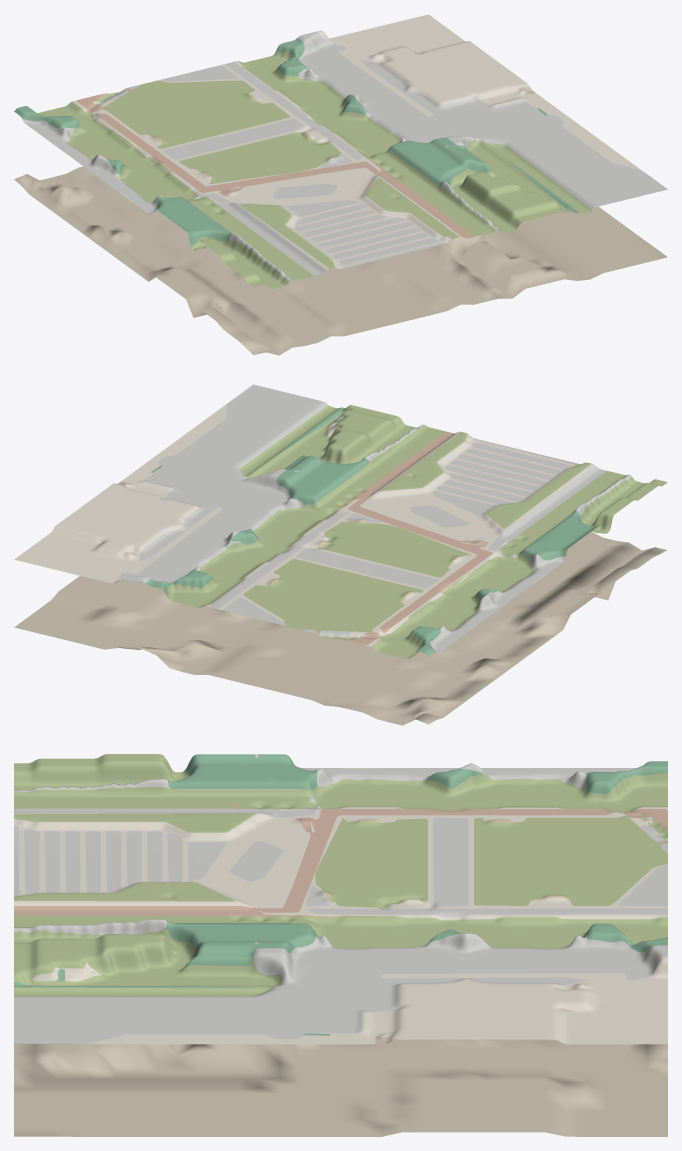
The picture shows the model from 3 angles, top to bottom: view 1: azimuth 30°, elevation 25°; view 2: azimuth 150°, elevation 25°; view 3: azimuth 270°, elevation 25°; orthographic projection. The views are drawn at different scales.
Parts seen in each view (by area): view 1: s_-1_0__soil, s_-1_0__grass, s_-1_0__stone_paving, s_-1_0__paving, s_-1_0__green_court, s_-1_0__brick_paving; view 2: s_-1_0__soil, s_-1_0__grass, s_-1_0__stone_paving, s_-1_0__paving, s_-1_0__green_court, s_-1_0__brick_paving; view 3: s_-1_0__grass, s_-1_0__soil, s_-1_0__stone_paving, s_-1_0__paving, s_-1_0__green_court, s_-1_0__brick_paving.
Boxes of the visible parts, <box> form: s_-1_0__soil: <box>14,51,667,355</box>; s_-1_0__grass: <box>37,50,592,288</box>; s_-1_0__stone_paving: <box>21,31,667,281</box>; s_-1_0__paving: <box>72,14,640,269</box>; s_-1_0__green_court: <box>14,38,579,247</box>; s_-1_0__brick_paving: <box>77,88,474,238</box>; s_-1_0__soil: <box>14,475,667,725</box>; s_-1_0__grass: <box>166,405,667,658</box>; s_-1_0__stone_paving: <box>121,384,631,652</box>; s_-1_0__paving: <box>14,404,594,646</box>; s_-1_0__green_court: <box>145,407,600,656</box>; s_-1_0__brick_paving: <box>314,431,534,644</box>; s_-1_0__grass: <box>14,754,667,996</box>; s_-1_0__soil: <box>14,896,667,1136</box>; s_-1_0__stone_paving: <box>14,754,667,1044</box>; s_-1_0__paving: <box>14,768,667,1044</box>; s_-1_0__green_court: <box>14,754,667,1035</box>; s_-1_0__brick_paving: <box>14,803,667,920</box>.
Bounding box in the file's own units: 128 × 24.01 × 128.
